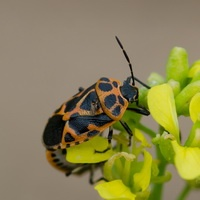insect: (43, 77, 137, 173)
